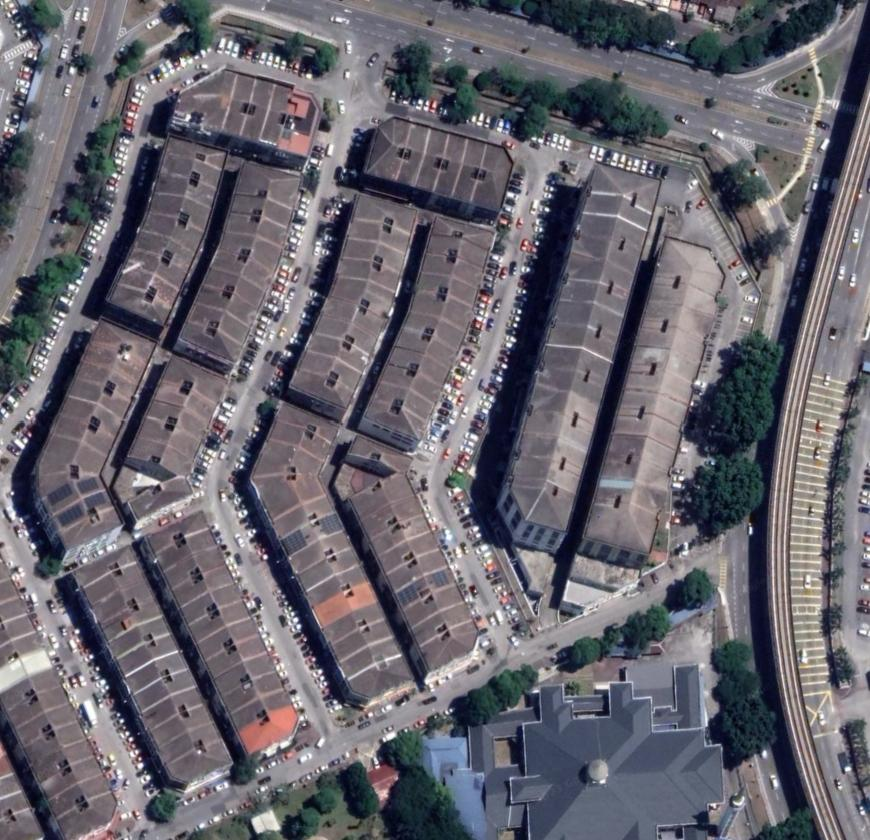building: (412, 657, 752, 838), (358, 113, 516, 229), (164, 65, 326, 176), (571, 476, 668, 576), (28, 486, 128, 576), (144, 721, 241, 799), (643, 232, 729, 318), (244, 439, 330, 524), (575, 159, 669, 235), (28, 432, 110, 519), (491, 478, 579, 558), (350, 378, 442, 452), (166, 306, 257, 379), (99, 257, 186, 332), (74, 311, 162, 384), (56, 543, 148, 612), (419, 211, 502, 286), (259, 394, 349, 463), (516, 385, 602, 456), (146, 352, 232, 422), (407, 602, 485, 677), (138, 505, 221, 575), (551, 253, 639, 319), (335, 635, 419, 704), (302, 560, 383, 631), (375, 527, 456, 598), (97, 613, 183, 679), (172, 580, 254, 649), (82, 577, 164, 646), (189, 616, 272, 684), (502, 432, 590, 496), (224, 688, 301, 761), (377, 338, 459, 406), (41, 772, 123, 840), (391, 568, 474, 635), (284, 526, 365, 594), (205, 652, 287, 719), (117, 650, 199, 717), (541, 299, 625, 364), (132, 398, 214, 464), (156, 545, 235, 613), (564, 211, 649, 274), (358, 494, 440, 559), (61, 358, 143, 423), (189, 265, 272, 329), (9, 698, 88, 765), (119, 226, 204, 288), (27, 734, 108, 799), (528, 345, 612, 407), (135, 684, 215, 749), (608, 390, 691, 452), (631, 301, 716, 361), (208, 228, 287, 292), (144, 149, 229, 208), (619, 346, 702, 406), (265, 497, 346, 558), (316, 604, 395, 666), (136, 190, 219, 249), (346, 188, 423, 251), (47, 395, 124, 458), (319, 278, 396, 340), (0, 663, 72, 729), (288, 349, 364, 411), (597, 434, 678, 492), (409, 270, 486, 328), (231, 158, 309, 214), (121, 478, 195, 537), (331, 238, 409, 292), (306, 314, 384, 368), (224, 195, 299, 251), (399, 309, 471, 366), (342, 472, 417, 525), (336, 434, 416, 480), (119, 436, 195, 484), (2, 631, 54, 690), (155, 132, 232, 171)
